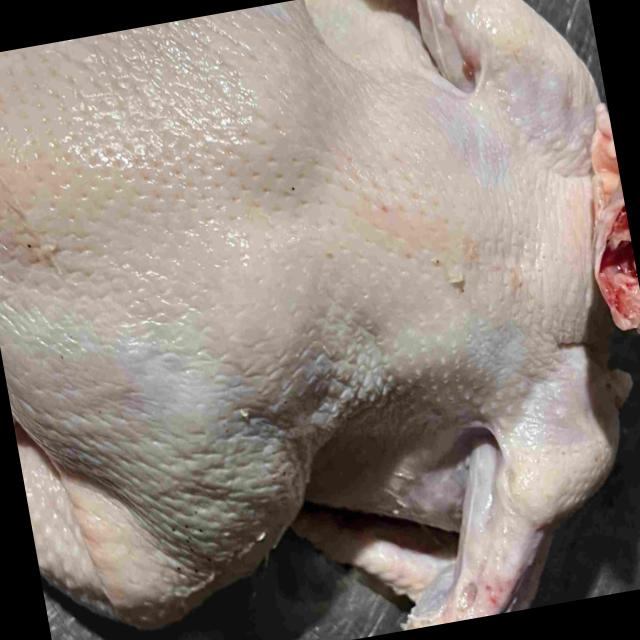back: (0, 17, 563, 420)
leg: (8, 395, 307, 630)
neck: (564, 134, 640, 334)
wing: (294, 326, 622, 631), (403, 0, 600, 129)
